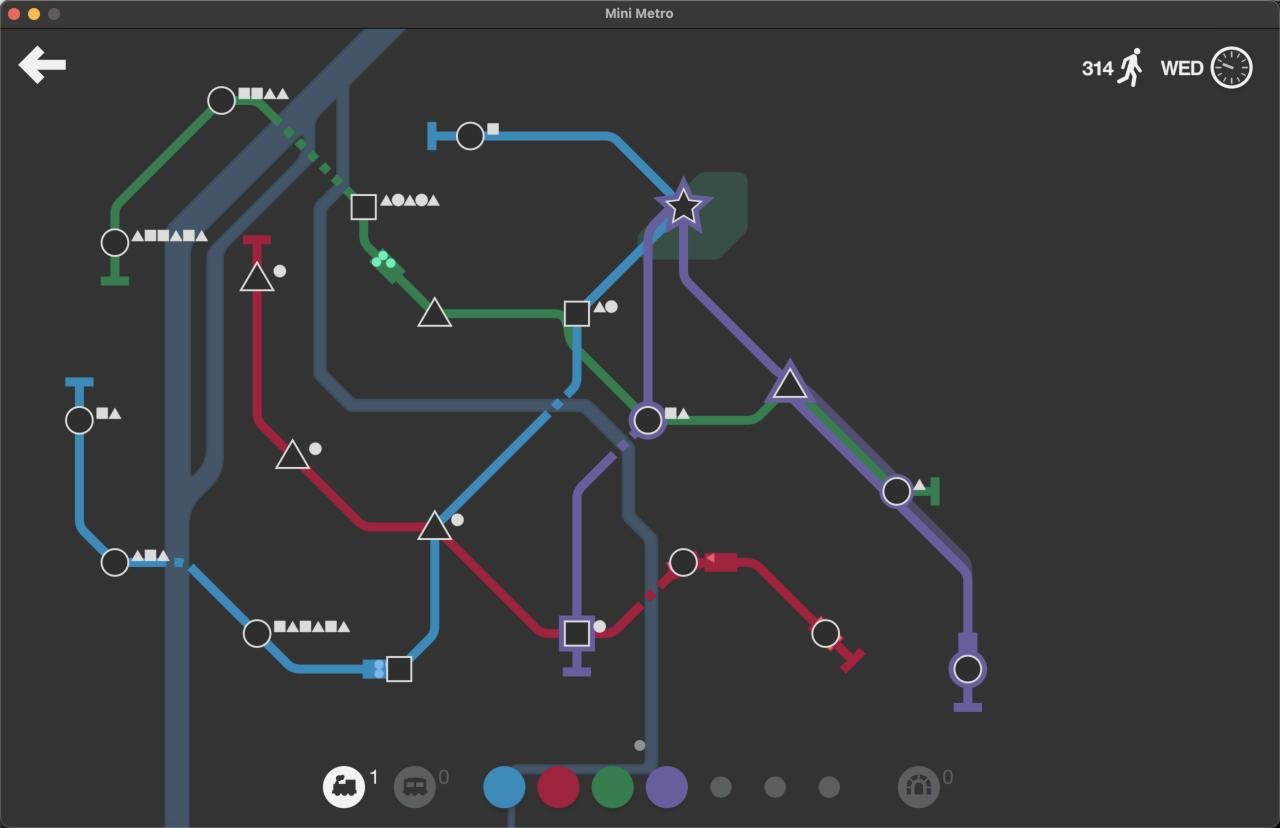CIRCLE: (628, 401, 667, 440), (949, 650, 986, 688), (881, 474, 914, 508), (64, 405, 95, 436), (811, 618, 841, 649), (100, 227, 130, 258), (668, 547, 699, 577), (242, 618, 272, 648), (100, 547, 130, 577), (206, 85, 236, 115), (456, 121, 485, 151)
SQUARE: (558, 615, 597, 653), (563, 299, 591, 328), (349, 193, 378, 221), (385, 655, 413, 683)
STAR: (654, 175, 716, 234)
TRIANGLE: (769, 363, 811, 402), (416, 508, 455, 542), (274, 438, 312, 470), (416, 296, 453, 328), (239, 260, 276, 292)
